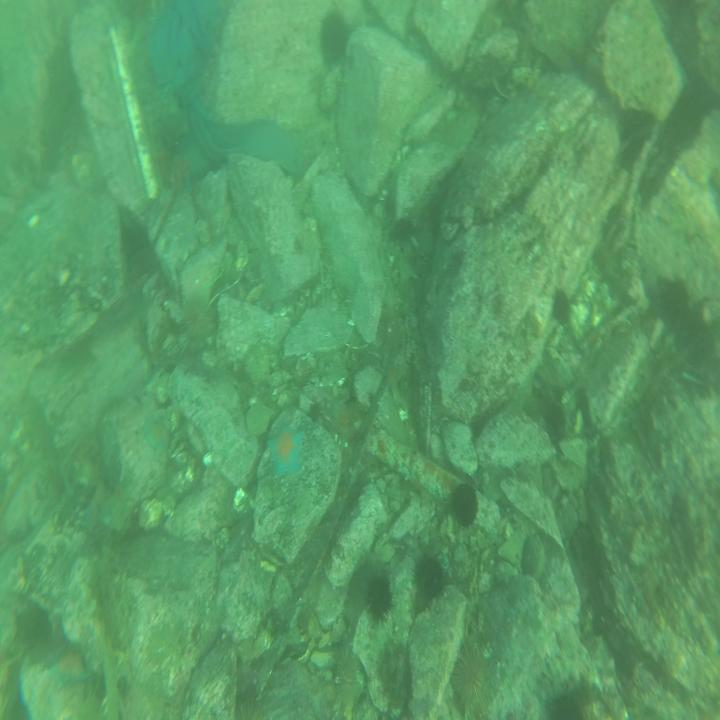echinus: (450, 639, 493, 720), (327, 637, 366, 715), (318, 3, 354, 76), (411, 550, 449, 604), (364, 565, 396, 623), (448, 478, 482, 532), (661, 276, 691, 326), (549, 283, 575, 335), (389, 207, 420, 247)
starfish: (264, 420, 308, 483), (46, 646, 92, 685), (142, 414, 170, 457)
